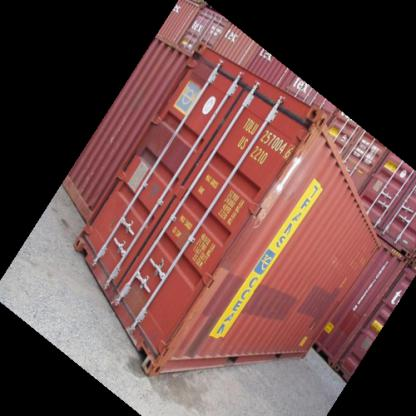Damage: (151, 281, 212, 364), (259, 142, 307, 218), (108, 276, 143, 313)
